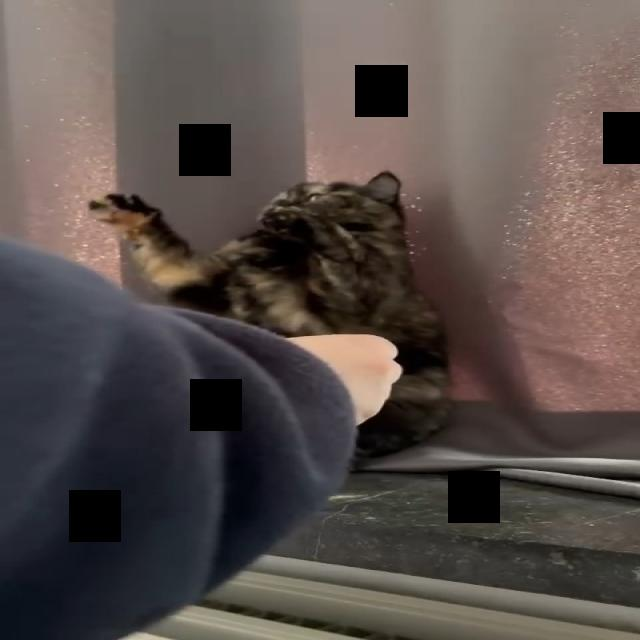authorized: (87, 169, 454, 467)
